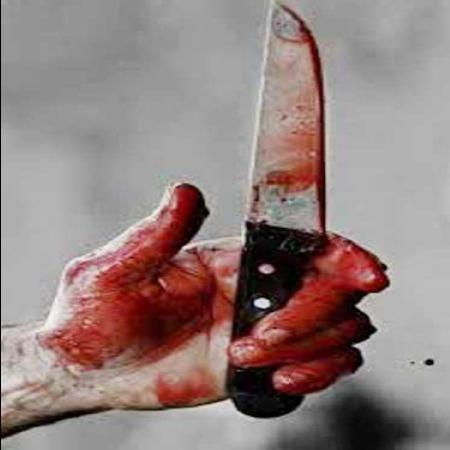long weapon: (138, 1, 396, 374)
